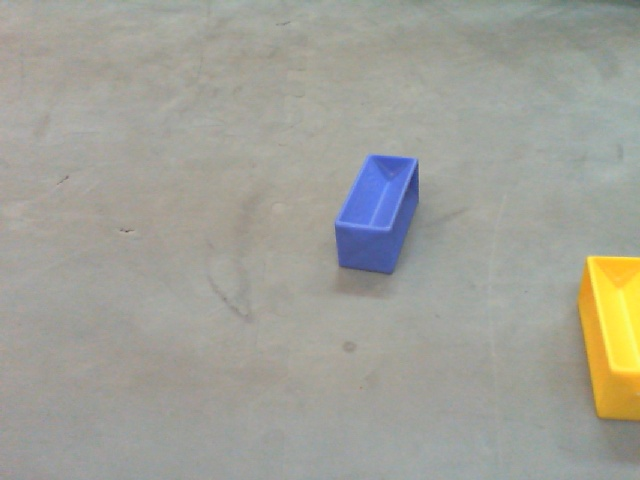BlueSample: (333, 152, 421, 279)
YellowSample: (576, 251, 640, 420)
